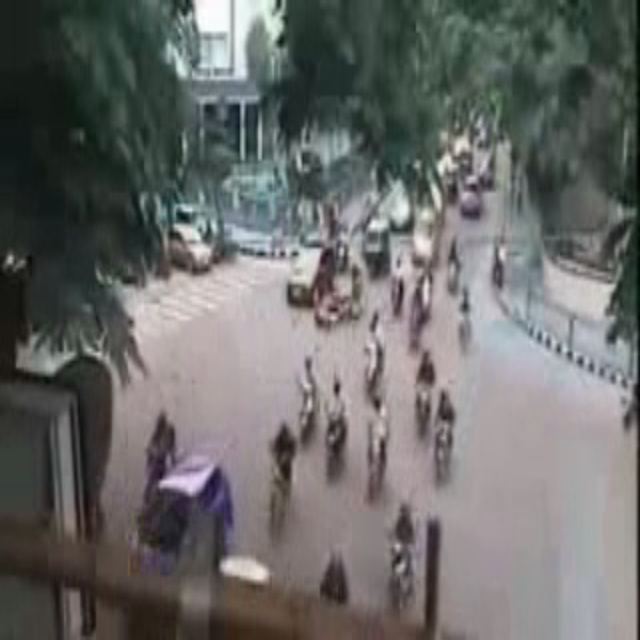acc: (279, 244, 367, 328)
